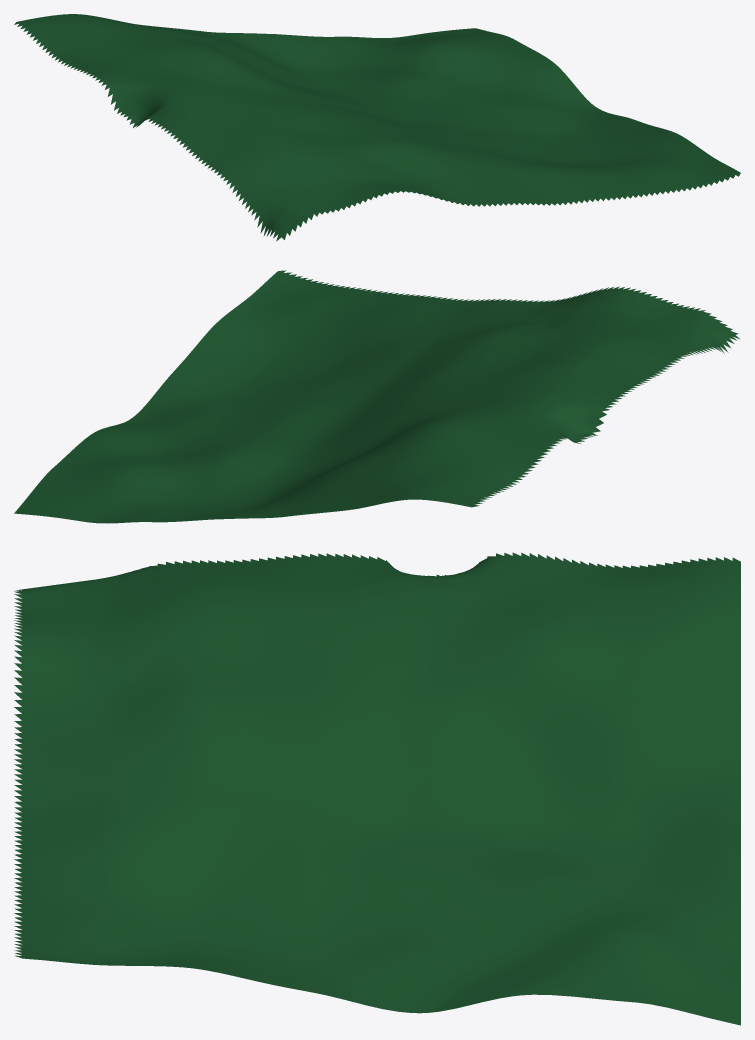
Rendered from payo_land_xm2_ym2_lod1.glb.
3 renders of one model, top to bottom at view 1: azimuth 30°, elevation 25°; view 2: azimuth 150°, elevation 25°; view 3: azimuth 270°, elevation 25°, orthographic. The views are drawn at different scales.
Visible parts, largest first — view 1: payo_land_xm2_ym2; view 2: payo_land_xm2_ym2; view 3: payo_land_xm2_ym2.
Part boxes in pixels (x1,y1,x2,y2): payo_land_xm2_ym2: (14,14,740,241); payo_land_xm2_ym2: (14,270,740,523); payo_land_xm2_ym2: (14,552,740,1025).
Bounding box in the file's own units: 258 × 66.18 × 258.
